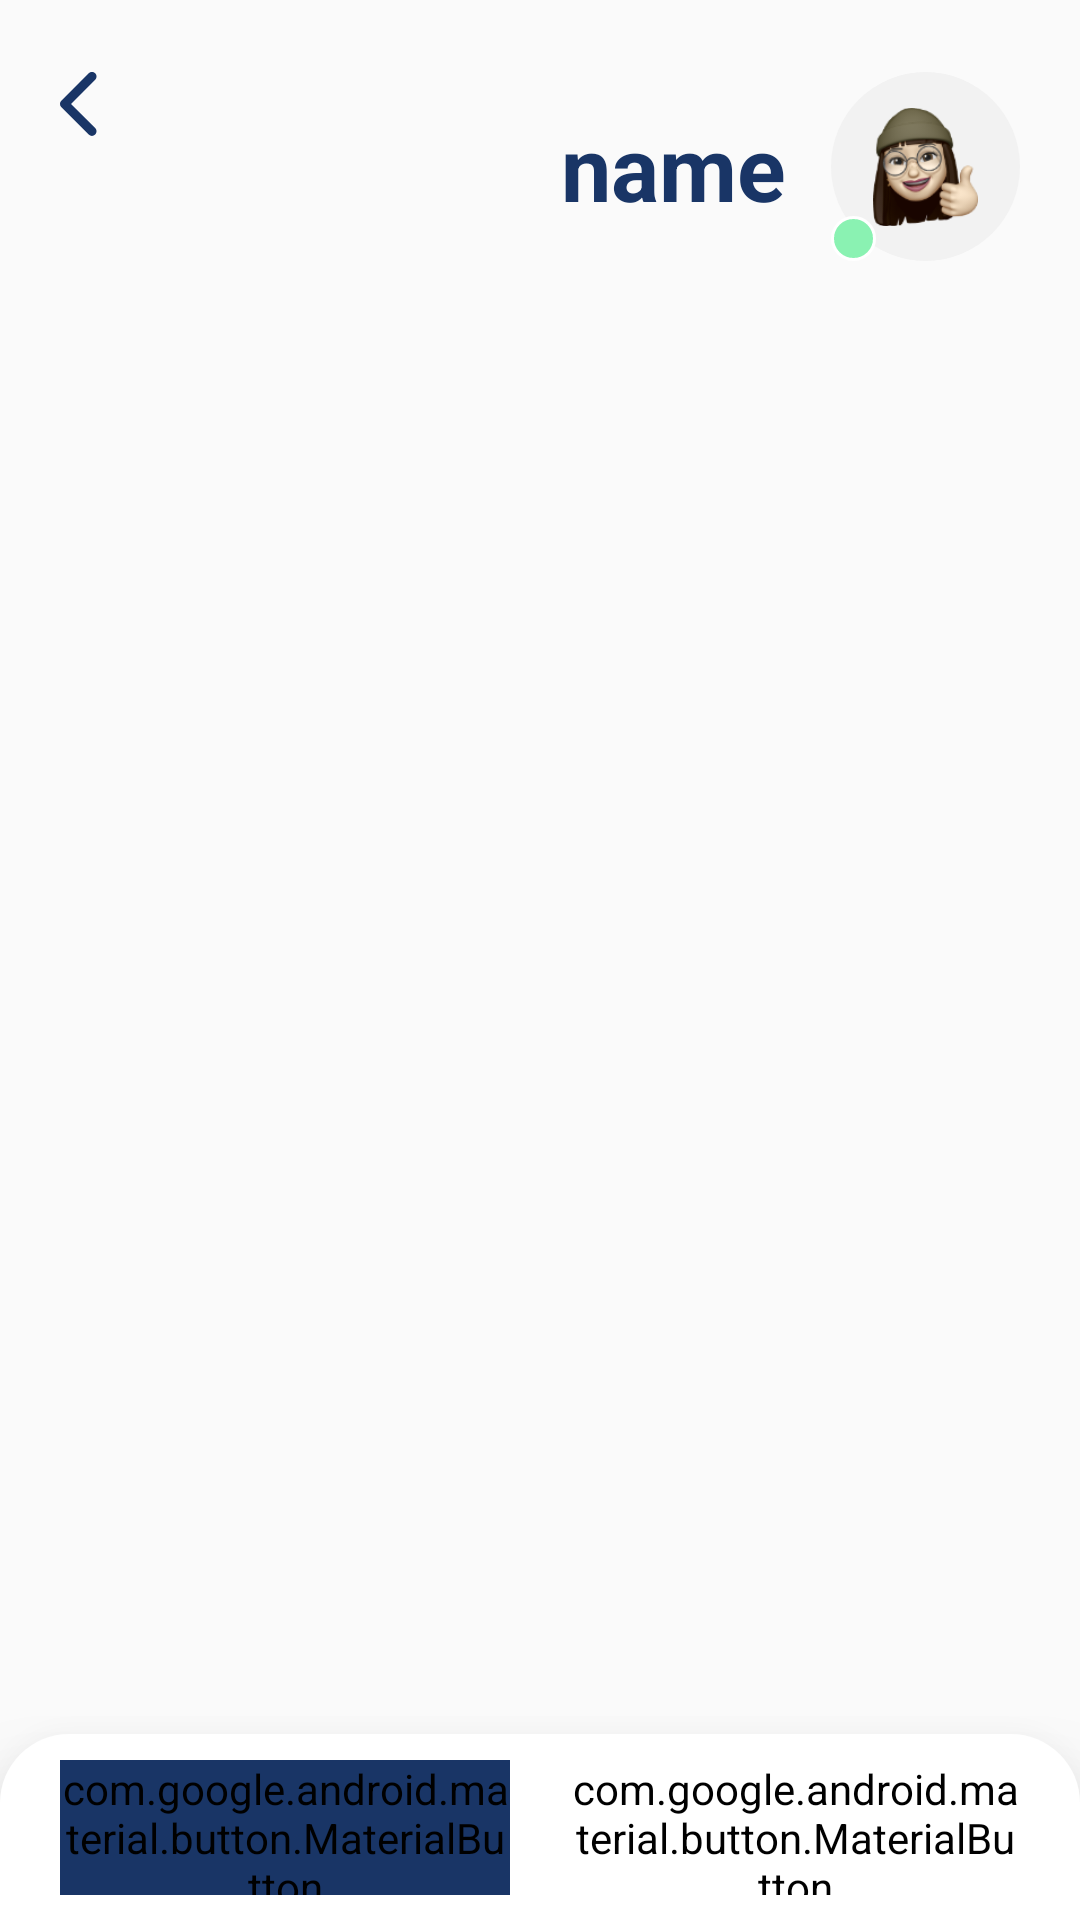

Where to tap for icons on this 1080×1920 app screen, as [x,y]:
ionic arrow back: [78,104]
